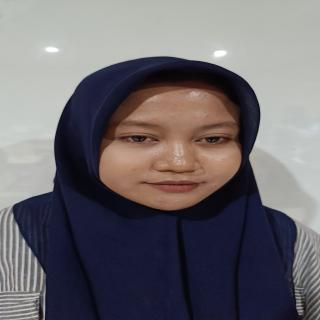Netral: (97, 75, 248, 221)
